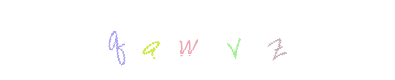A: (111, 0, 191, 80)
Q: (77, 0, 157, 80)
V: (170, 0, 250, 80)
W: (157, 0, 237, 80)
Z: (190, 0, 270, 80)
